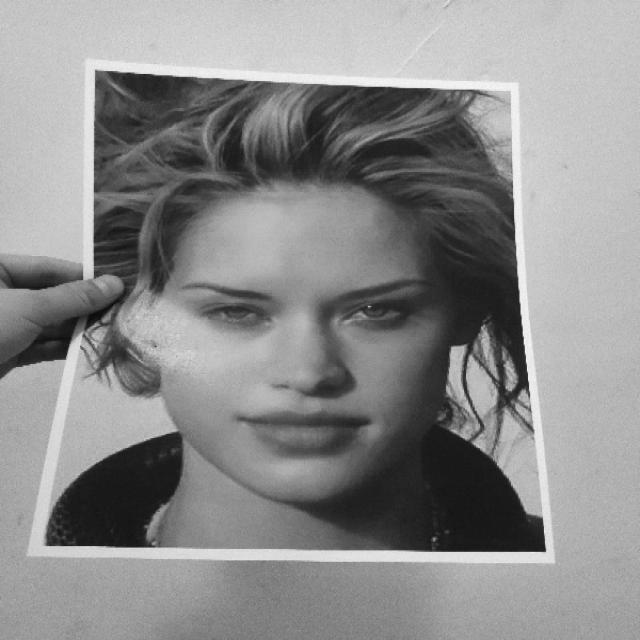fake: (104, 74, 522, 510)
